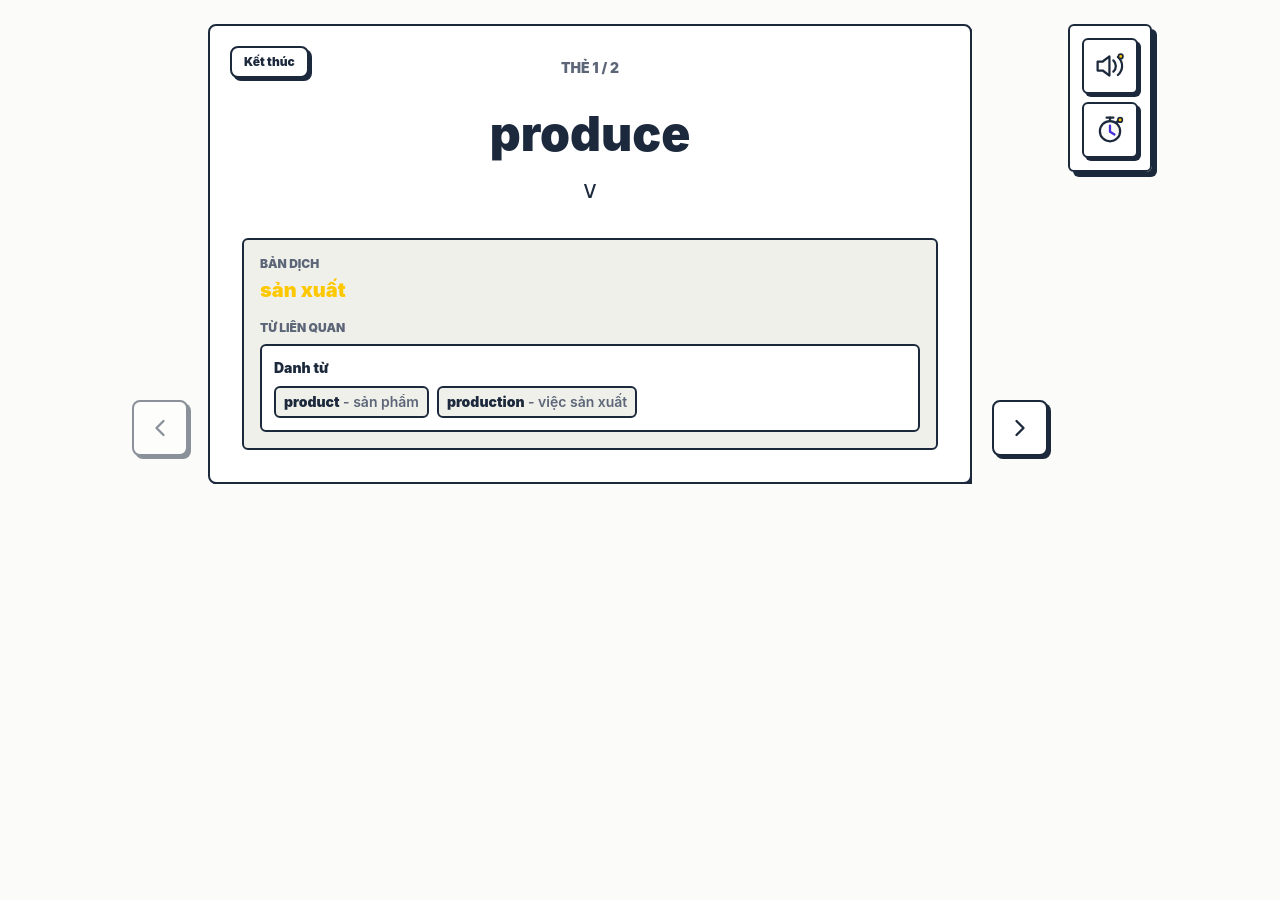
Test: FlashcardStudyPage › requires the final remember confirmation before completing from the card action
Click the button named "Thẻ tiếp theo": click(1020, 428) [992, 400, 1048, 456]
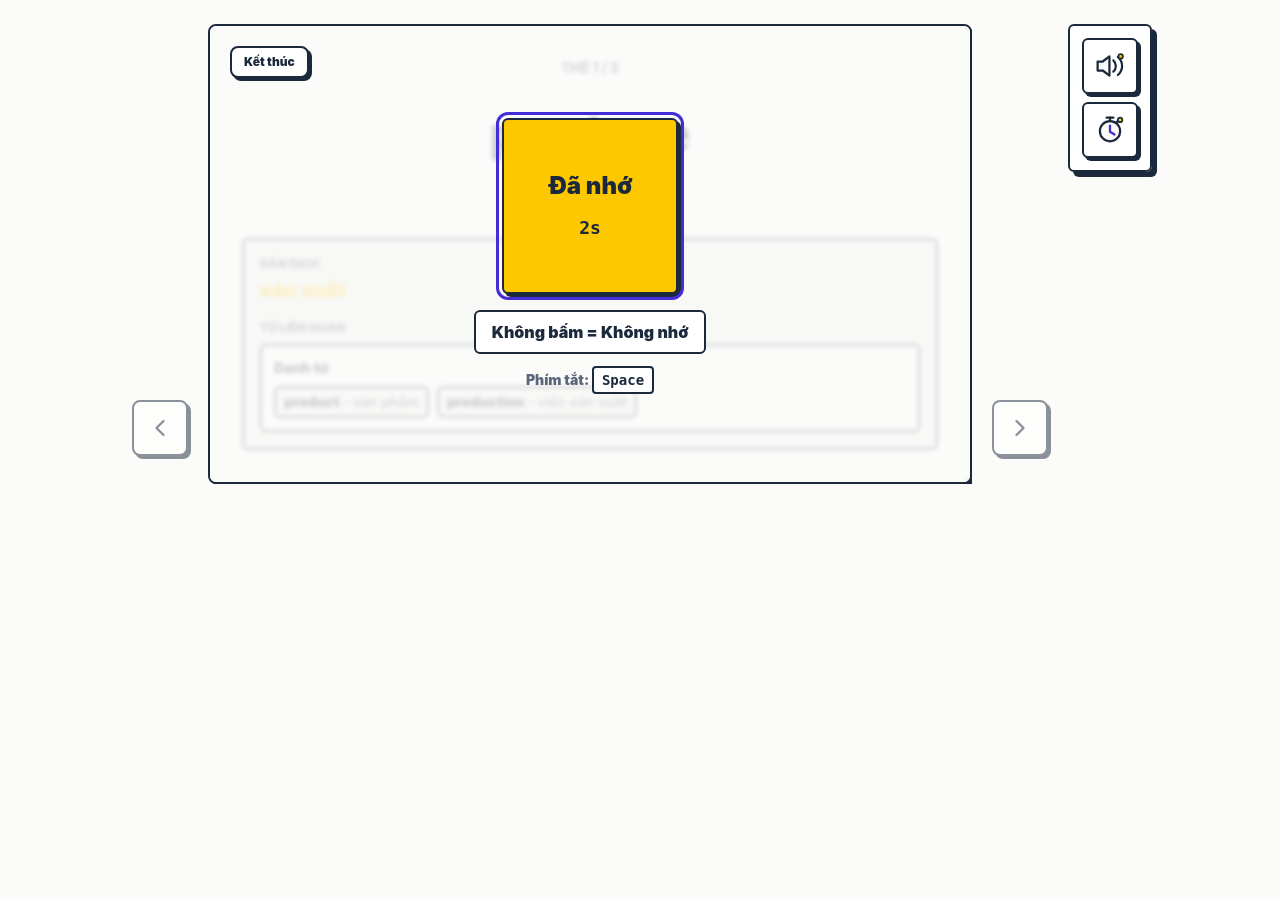
Click the button "Đã nhớ 2s": click(590, 206) [502, 118, 678, 294]
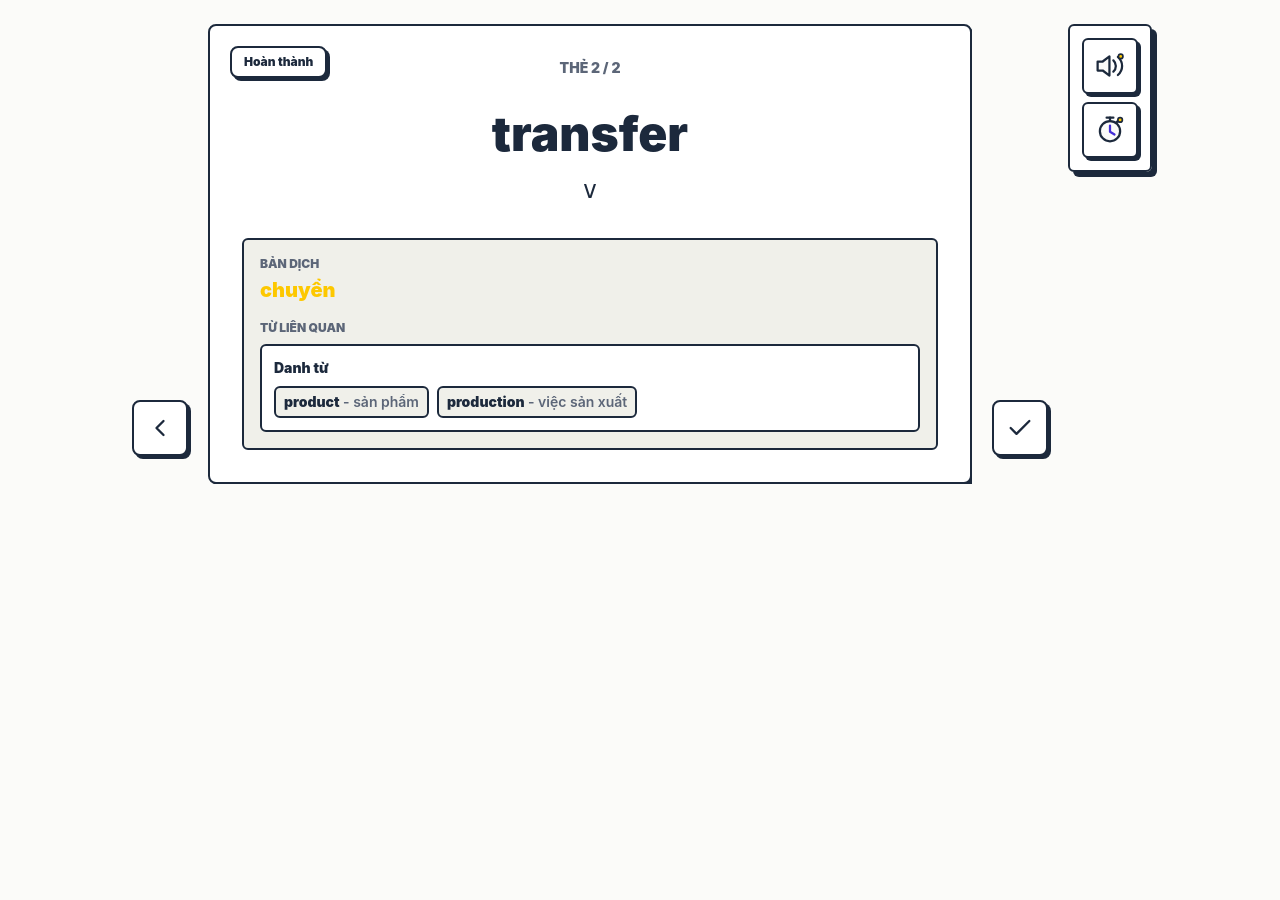
Click the button "Hoàn thành": click(279, 62) [230, 46, 327, 78]
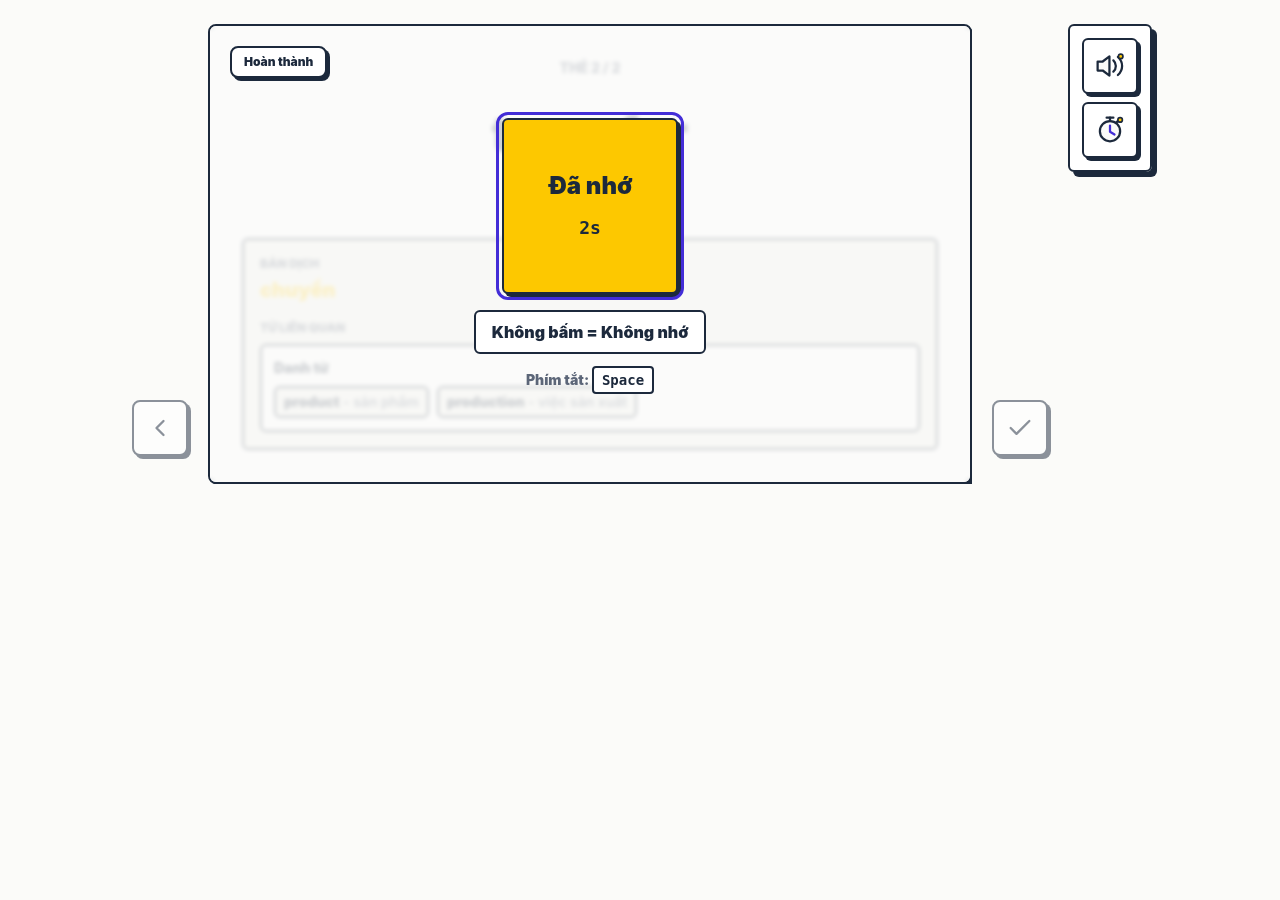
Expected: the text "Hoàn thành phiên học?" is not shown
Expected: the button "Đã nhớ 2s" is shown
Click the button "Đã nhớ 2s": click(590, 206) [502, 118, 678, 294]
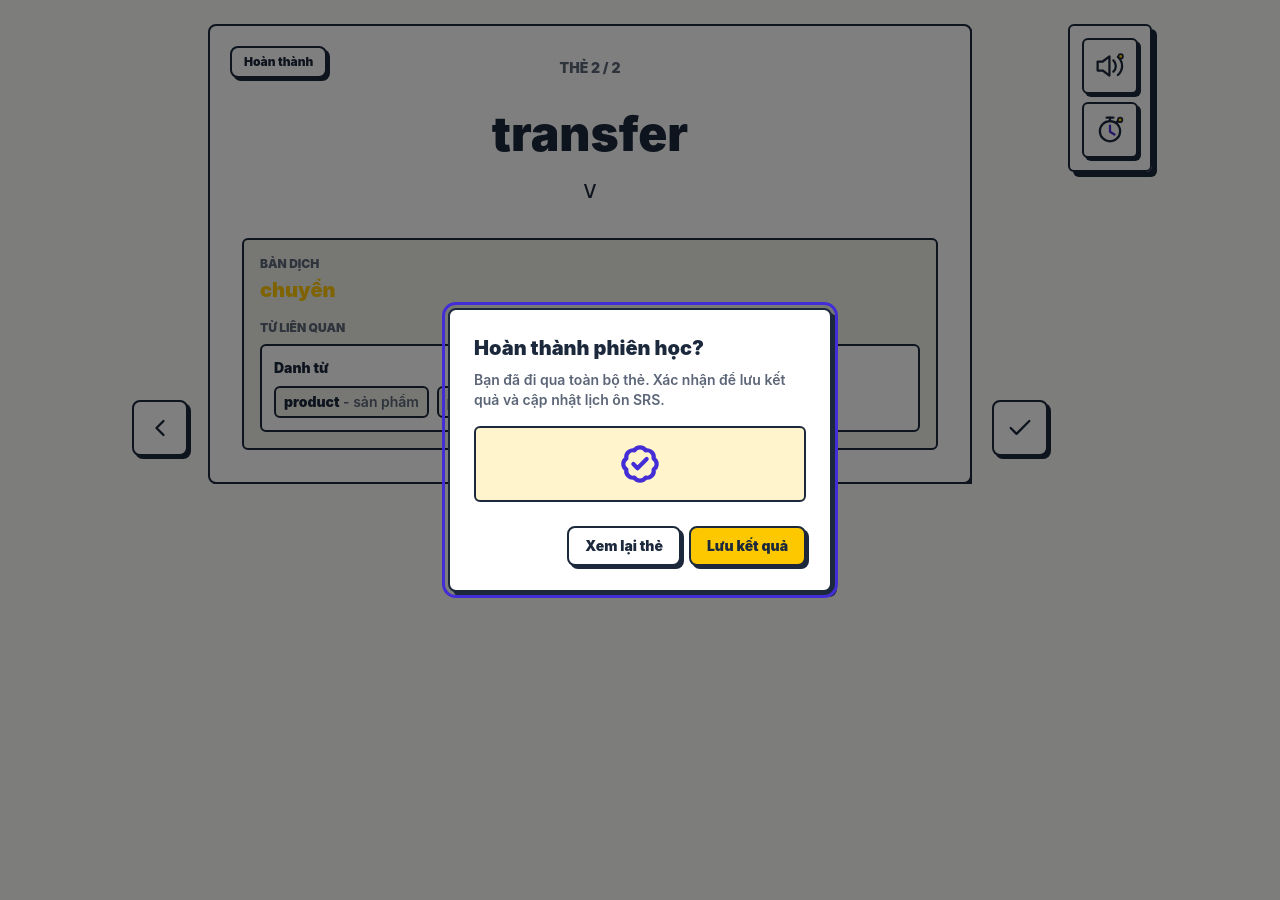
Expected: the heading "Hoàn thành phiên học?" is shown, [474, 336, 704, 360]
